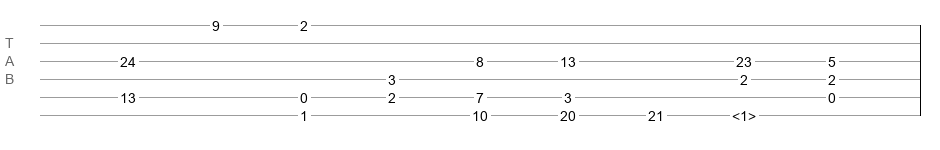0: (300, 90, 308, 100), (828, 90, 836, 100)
1: (300, 108, 308, 118)
10: (472, 108, 488, 118)
13: (120, 90, 136, 100), (560, 54, 576, 64)
2: (300, 18, 308, 28), (388, 90, 396, 100), (740, 72, 748, 82), (828, 72, 836, 82)
20: (560, 108, 576, 118)
21: (648, 108, 664, 118)
23: (736, 54, 752, 64)
24: (120, 54, 136, 64)
3: (388, 72, 396, 82), (564, 90, 572, 100)
5: (828, 54, 836, 64)
7: (476, 90, 484, 100)
8: (476, 54, 484, 64)
9: (212, 18, 220, 28)
harmonic: (732, 108, 756, 118)
